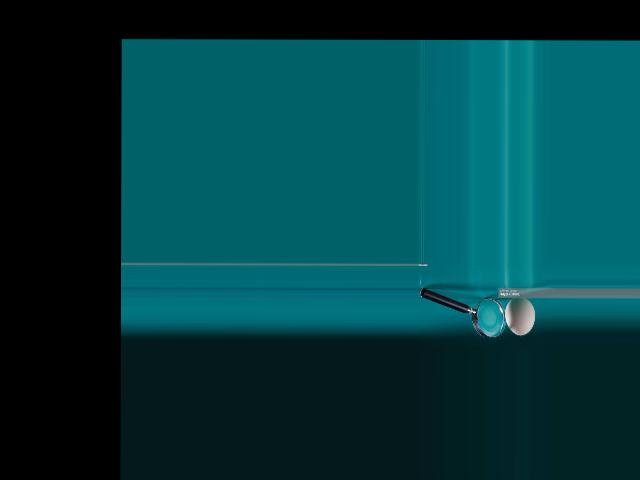egg: (505, 297, 535, 335)
